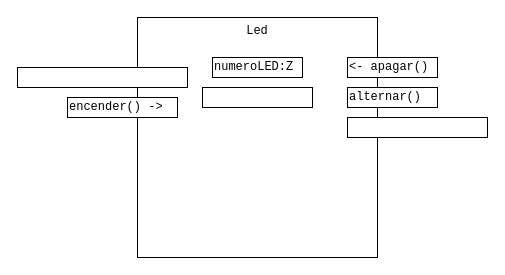
The diagram is 505 pixels wide and 275 high, and some of its shapes have lost their labels. Here are the shapes that lost their labels. From the top down, the box of each, then its label:
(16, 66, 188, 88): Z -> Constructor() ->
(202, 86, 312, 108): encendido:T/F
(346, 116, 488, 138): <- brillar() <- Z
